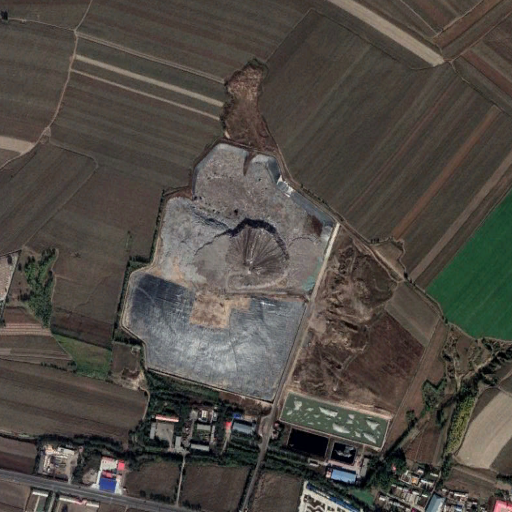lf: (119, 141, 338, 401)
